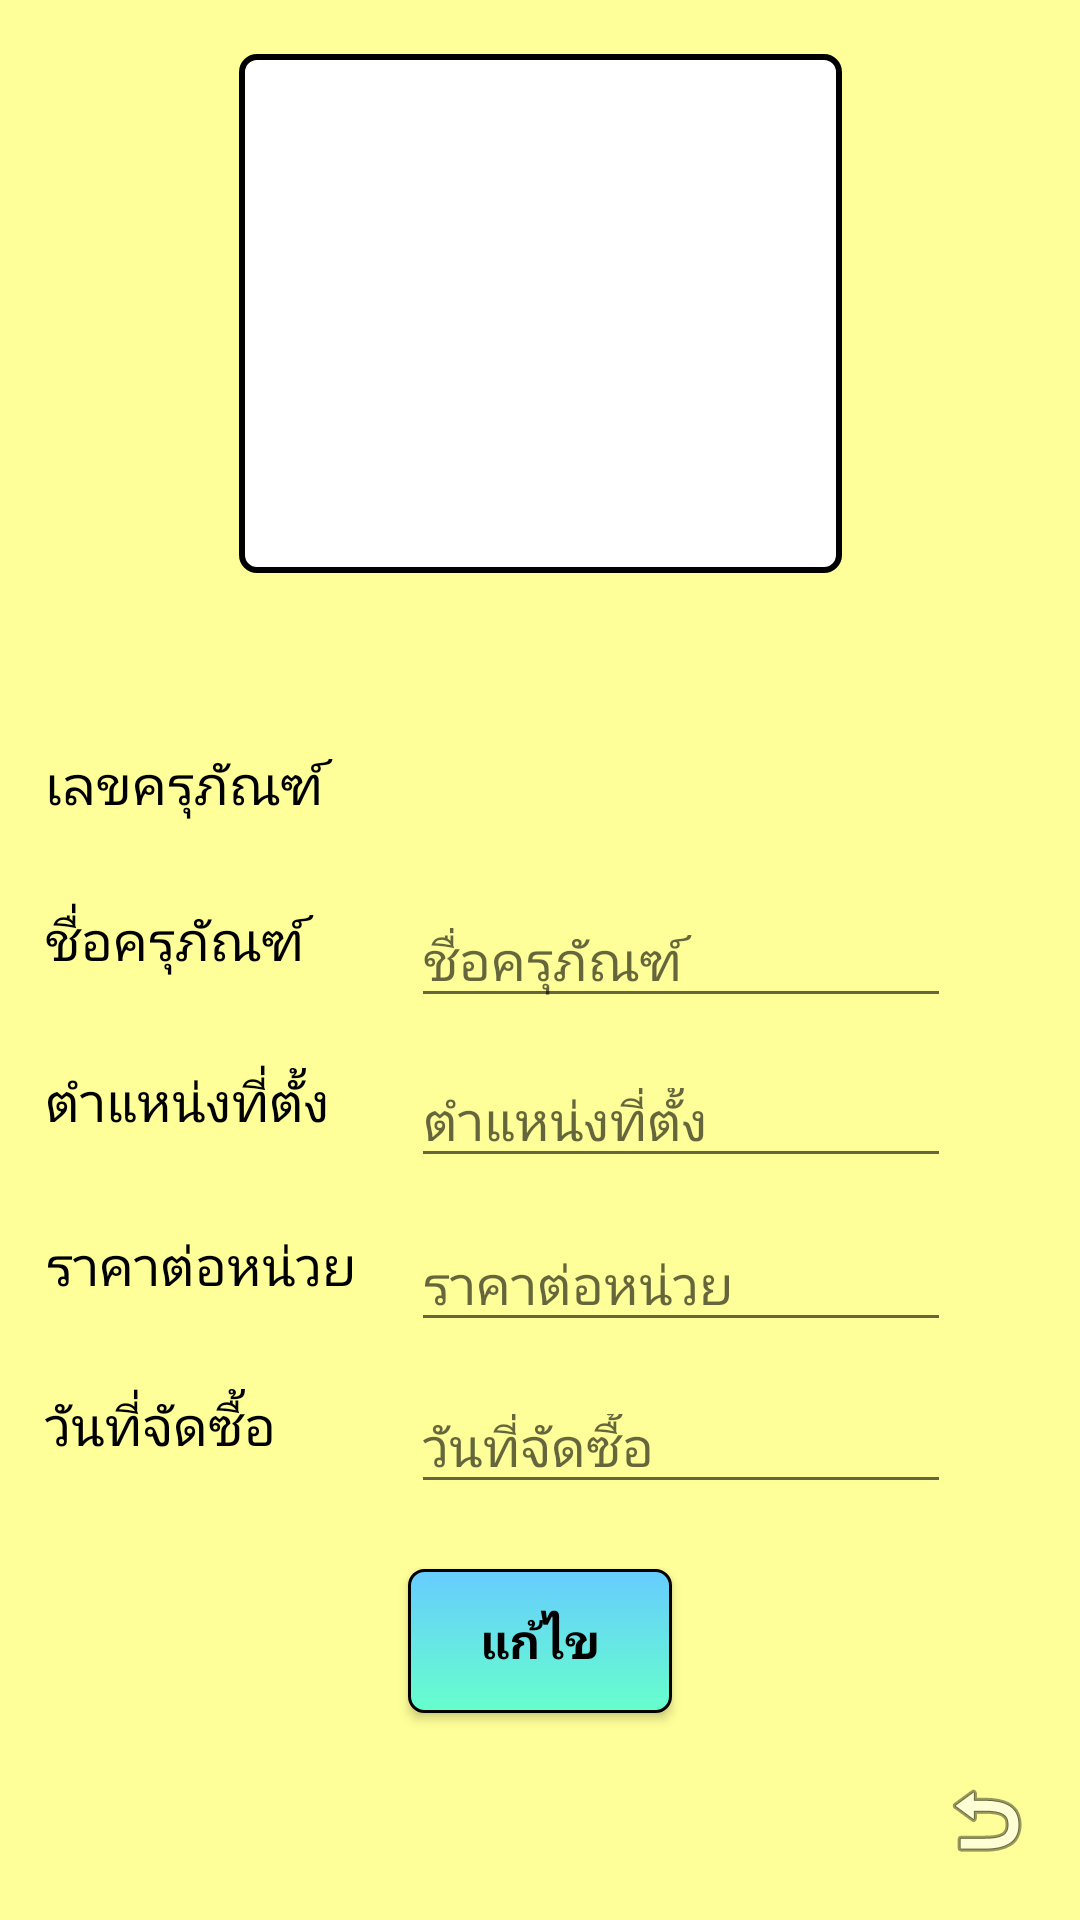

Named icons in this screenshot (1080px×1920px) and their centers, (x,y):
revert: (987,1820)
